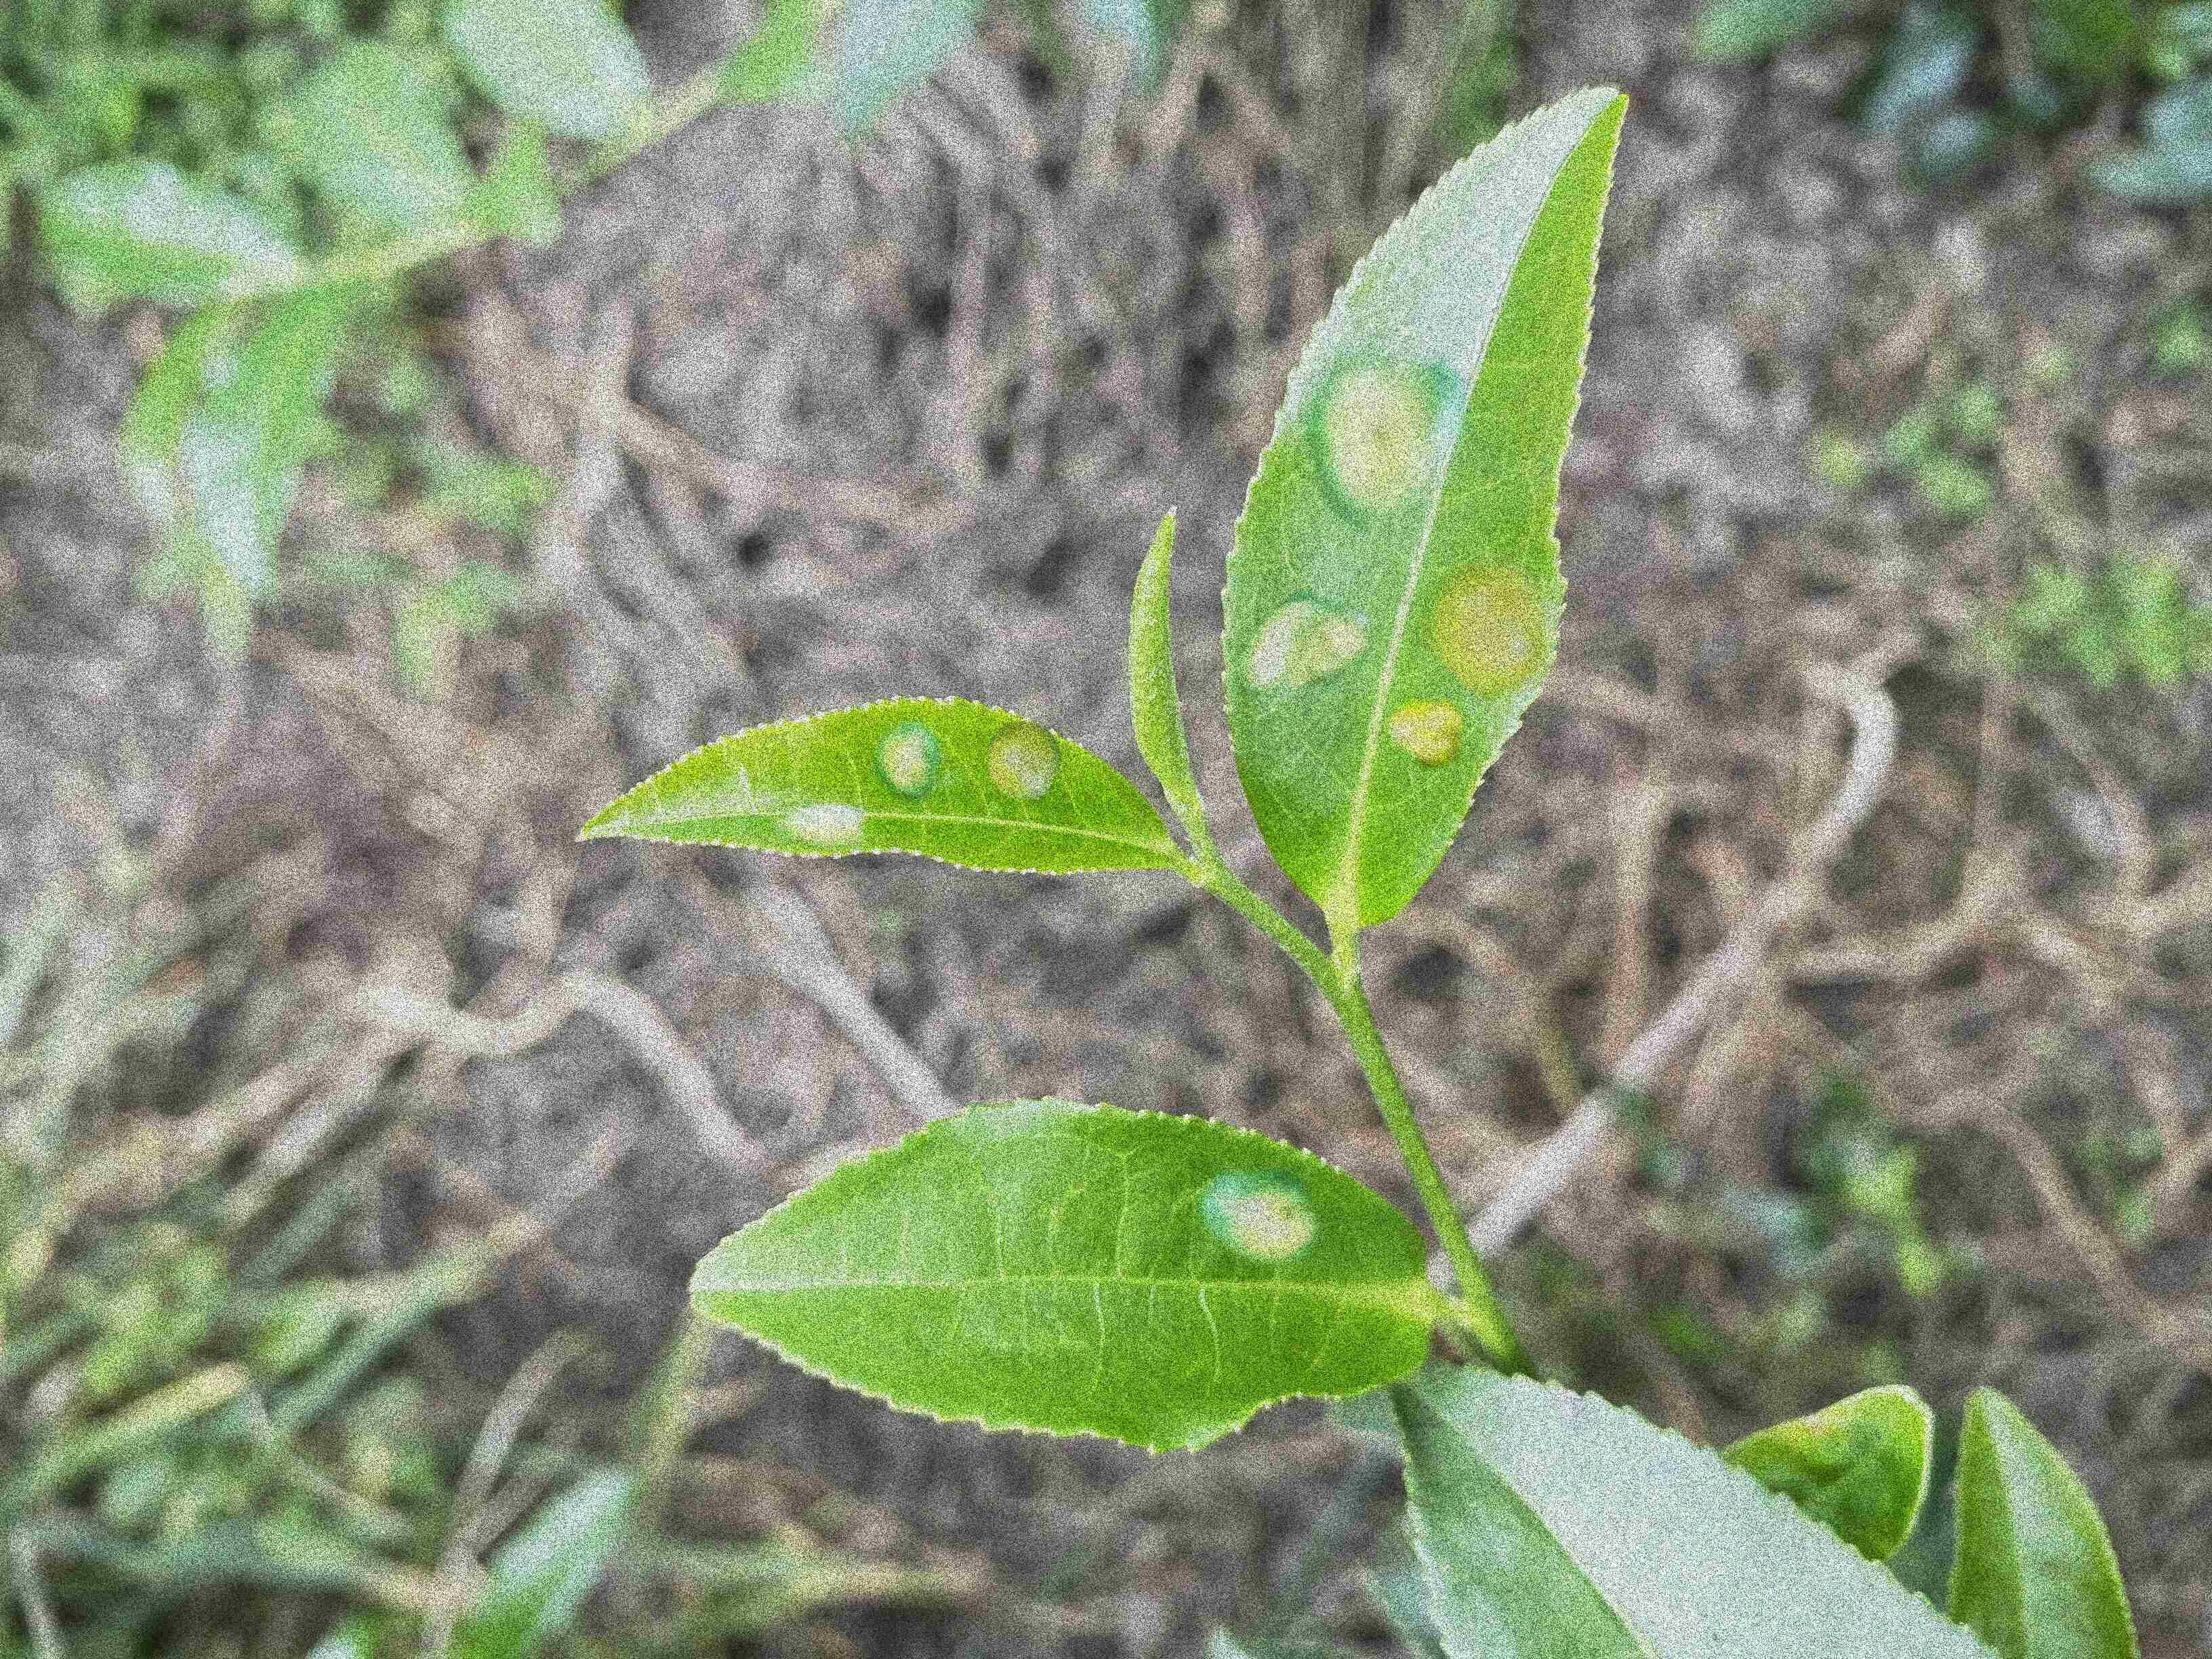chabing_high: (1216, 84, 1630, 934), (578, 695, 1176, 878)
chabing_low: (690, 1098, 1435, 1455)
